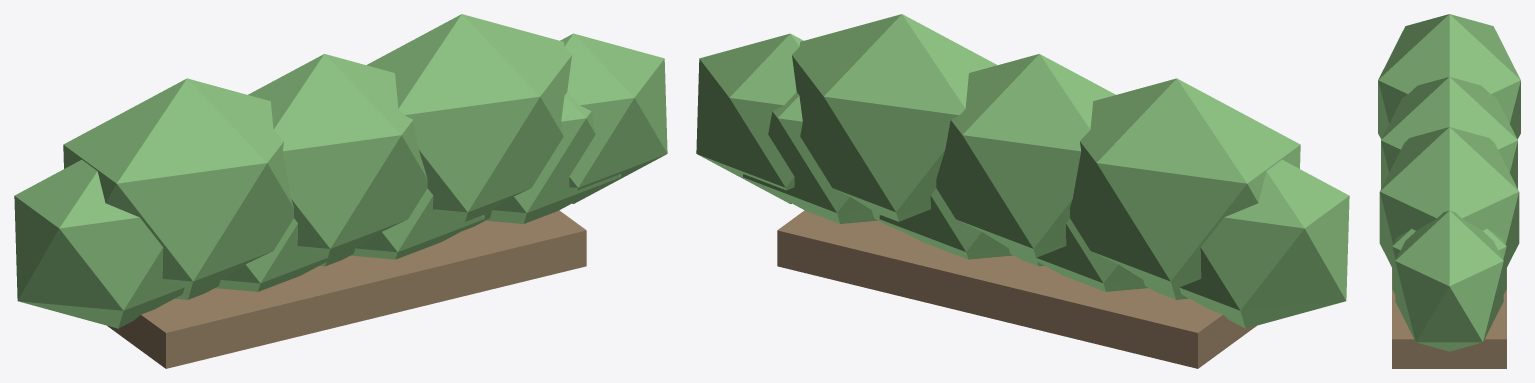
Rendered from hedge.glb.
The picture shows the model from 3 angles, left to right: view 1: azimuth 30°, elevation 25°; view 2: azimuth 150°, elevation 25°; view 3: azimuth 270°, elevation 25°; orthographic projection. The views are drawn at different scales.
Parts seen in each view (by area): view 1: Hedge; view 2: Hedge; view 3: Hedge.
Part boxes in pixels (x1=…): Hedge: x1=14, y1=14, x2=667, y2=368; Hedge: x1=696, y1=14, x2=1349, y2=368; Hedge: x1=1378, y1=14, x2=1520, y2=368.
Bounding box in the file's own units: 7.54 × 2.8 × 1.74.
